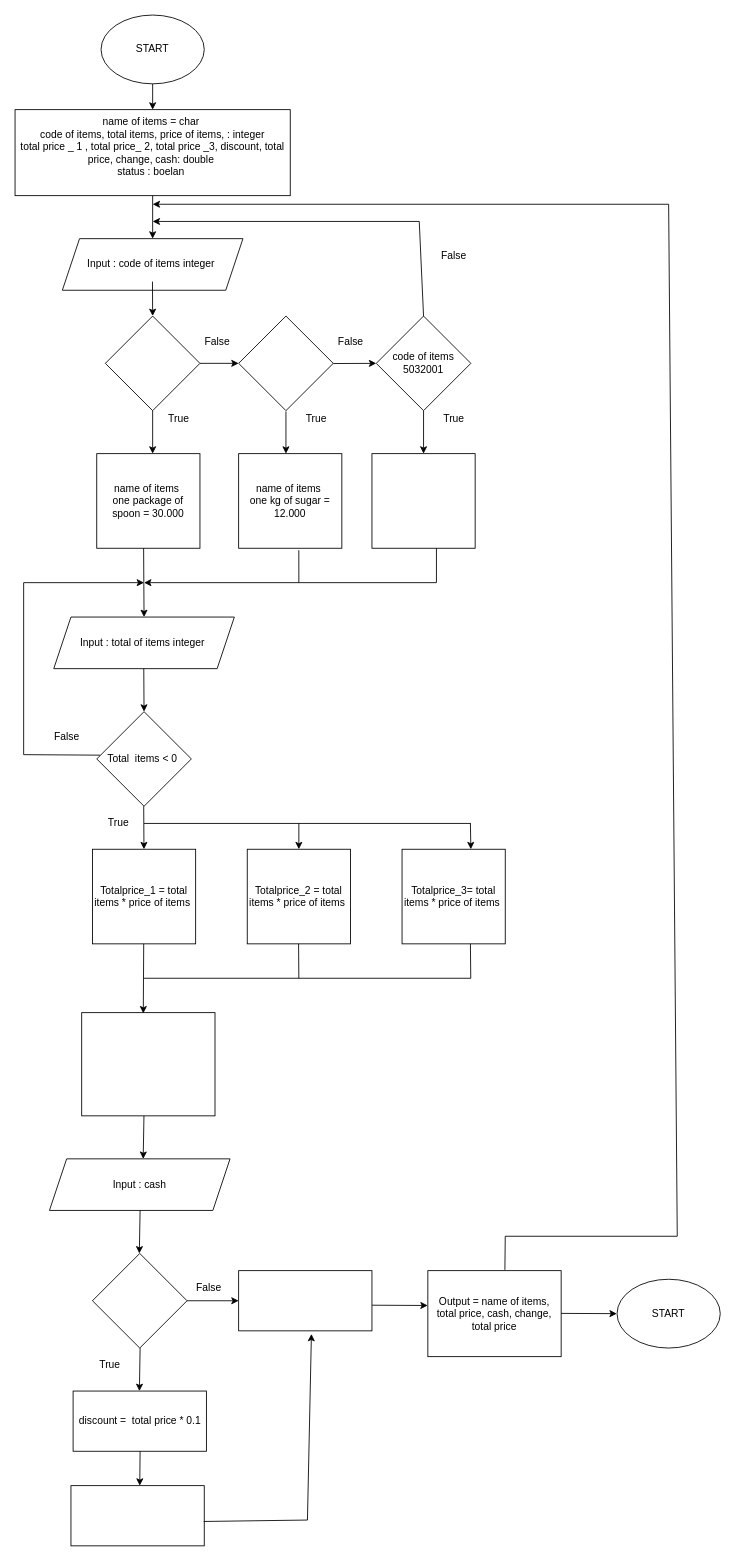
This 735x1561 diagram has some shape labels left out. The box of each missing label's shape, as (x1, y1, x2, y2) in pixels:
change = cash - discount: (70, 1485, 204, 1546)
change = cash - total price: (238, 1270, 372, 1331)
code of items 220802: (104, 315, 200, 411)
code of items 28062003: (238, 315, 333, 411)
name of items 3 pkg coffee = 122.000: (371, 453, 475, 548)
total price = total items_1 + total items_2 + total items_3: (81, 1012, 215, 1116)
total price >= 50.000: (92, 1253, 187, 1348)
